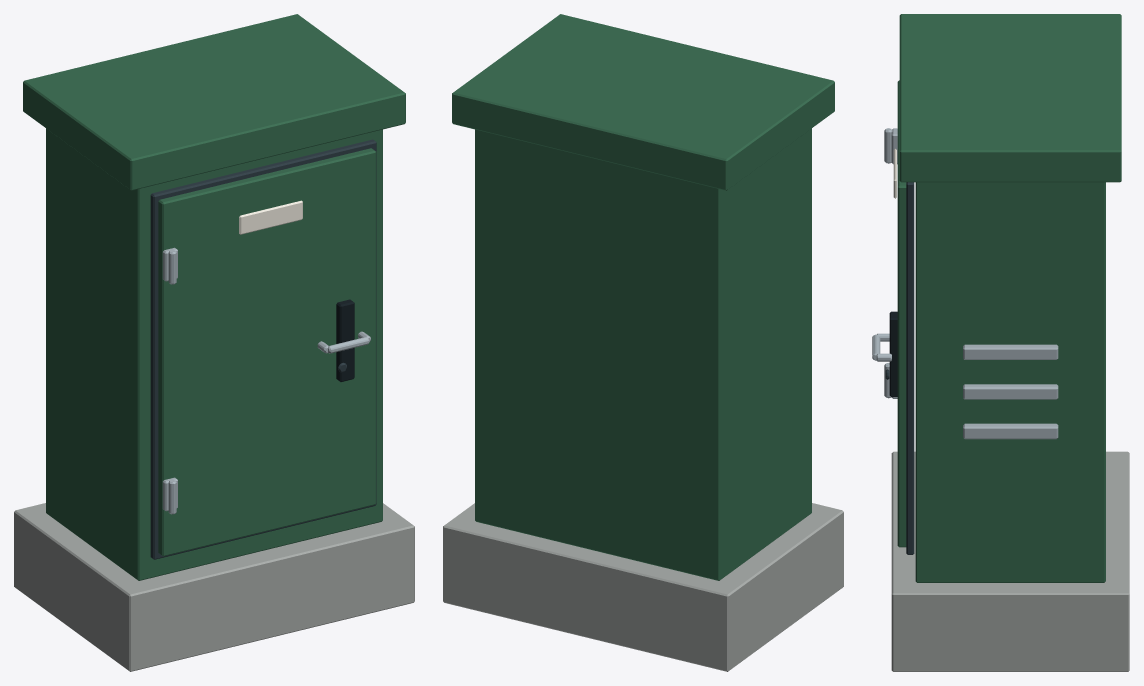
Rendered from b05_fiber_distribution_cabinet.glb.
3 views of the same model, side by side, from view 1: azimuth 30°, elevation 25°; view 2: azimuth 150°, elevation 25°; view 3: azimuth 270°, elevation 25° (orthographic). The views are drawn at different scales.
Visible parts, largest first — view 1: b05_fiber_distribution_cabinet; view 2: b05_fiber_distribution_cabinet; view 3: b05_fiber_distribution_cabinet.
Part boxes in pixels (x1,y1,x2,y2): b05_fiber_distribution_cabinet: (14, 14, 414, 671); b05_fiber_distribution_cabinet: (443, 14, 843, 671); b05_fiber_distribution_cabinet: (872, 14, 1129, 671).
Size of the model in its own units: 0.85 by 1.45 by 0.649.
